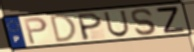D: (49, 14, 79, 45)
P: (22, 16, 50, 46), (78, 11, 104, 42)
S: (130, 8, 159, 36)
U: (102, 9, 131, 38)
Z: (154, 6, 187, 34)
